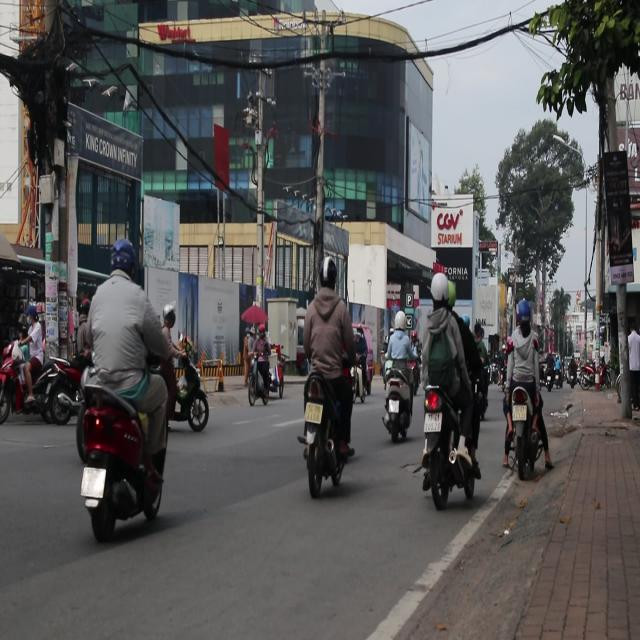motorbike: (75, 366, 168, 542), (420, 386, 480, 510), (296, 372, 352, 500), (506, 386, 550, 477), (32, 358, 84, 426), (168, 349, 210, 431), (0, 336, 34, 424), (381, 366, 415, 444), (246, 348, 270, 406), (576, 366, 596, 390)
